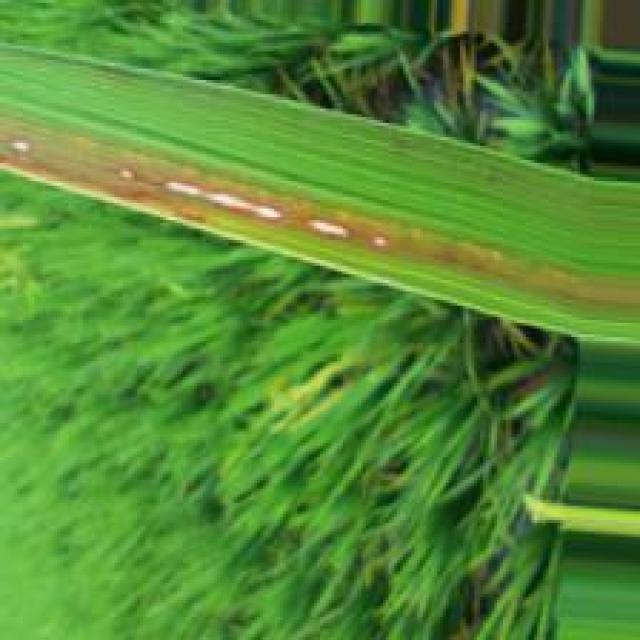Bacterial_Leaf_Blight: (0, 129, 491, 277)
